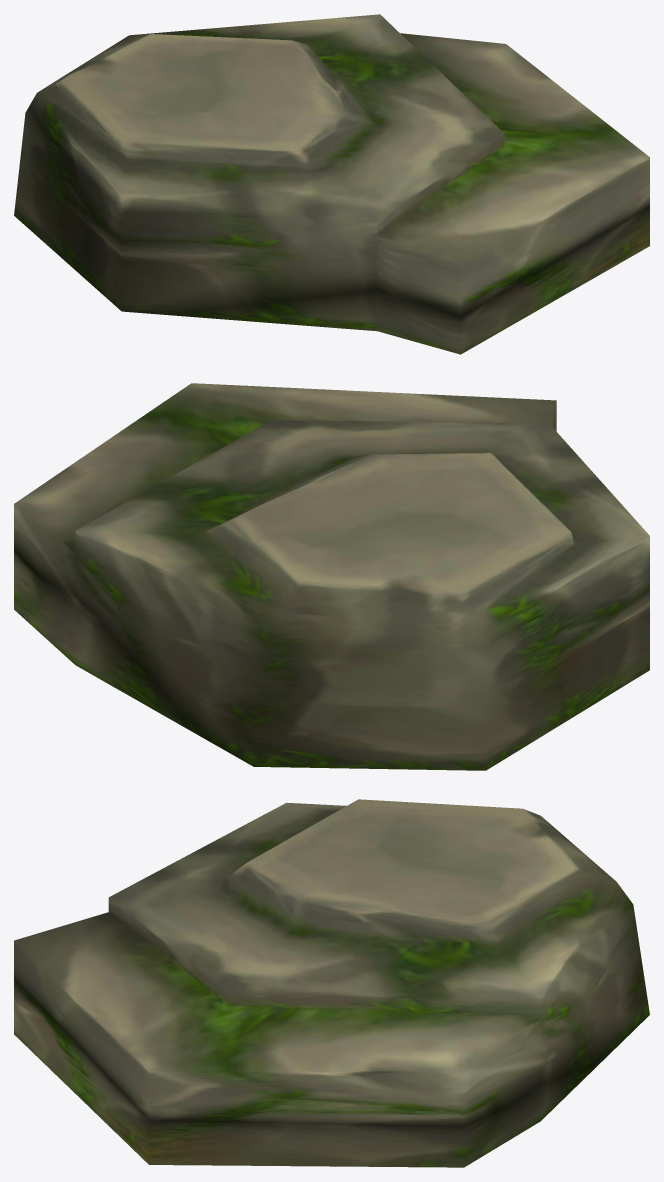
File: RockFormation_4_5 (38).fbx
3 views of the same model, one above another, from view 1: azimuth 30°, elevation 25°; view 2: azimuth 150°, elevation 25°; view 3: azimuth 270°, elevation 25° (orthographic). The views are drawn at different scales.
Visible parts, largest first — view 1: RockFormation_4_5 (38); view 2: RockFormation_4_5 (38); view 3: RockFormation_4_5 (38).
Part boxes in pixels (left/top/right/bottom): RockFormation_4_5 (38): left=14, top=14, right=649, bottom=354; RockFormation_4_5 (38): left=14, top=383, right=649, bottom=770; RockFormation_4_5 (38): left=14, top=799, right=649, bottom=1167.
Size of the model in its own units: 111 by 30.93 by 123.
